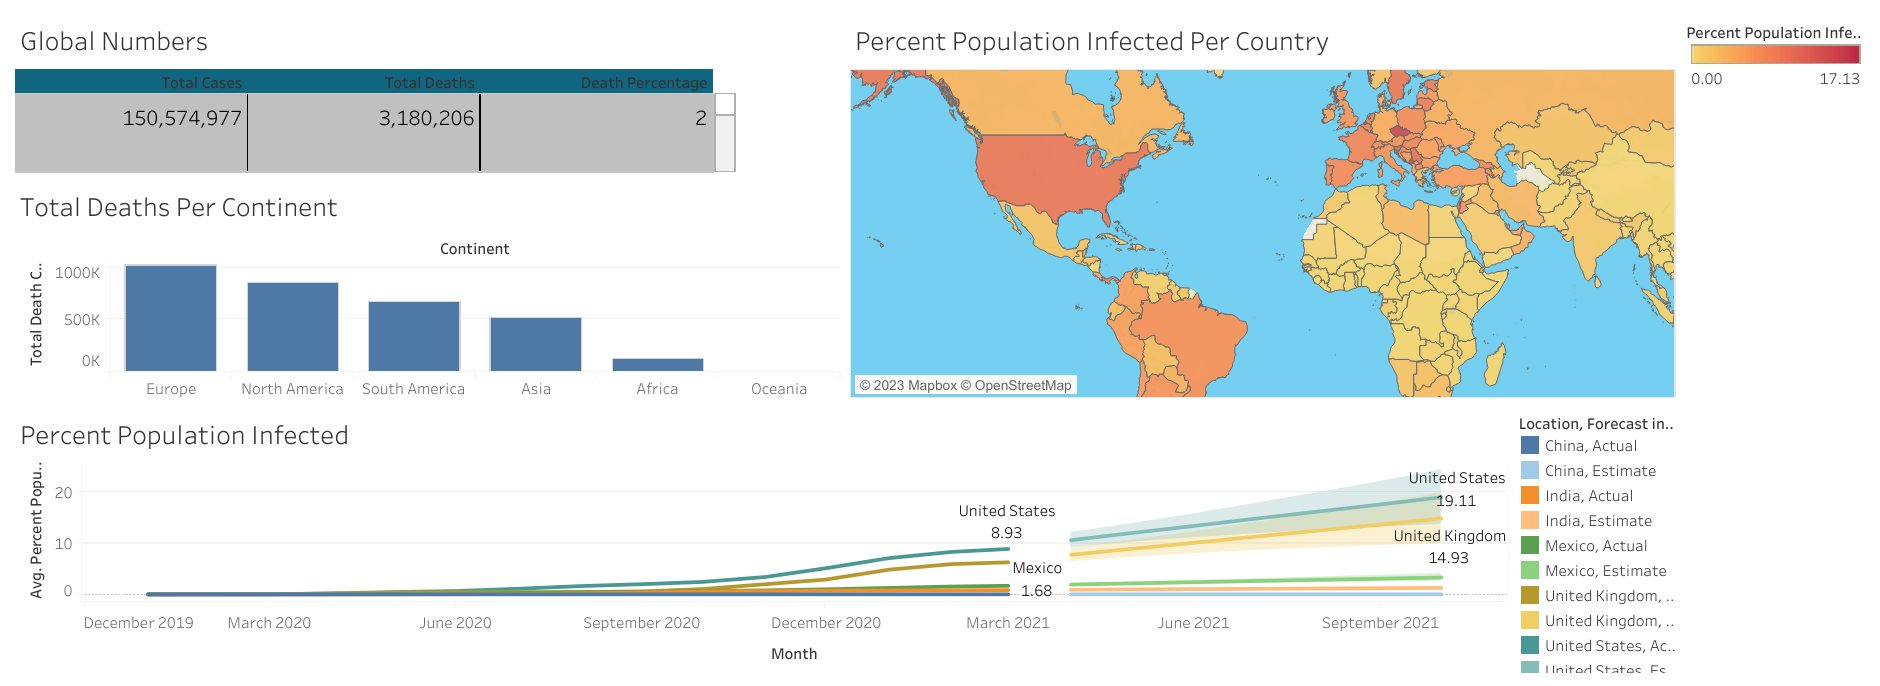

The dashboard page shown, as its layout file describes it:
{"tool":"tableau","page":{"name":"Dashboard 1","canvas":[1000,1000],"units":"permille","ordinal":0},"visuals":[{"type":"worksheet","title":"Sheet 1","mark":"Automatic","box":[4.8,9.3,449.3,245.3]},{"type":"worksheet","title":"Sheet 3","mark":"Automatic","box":[454.1,9.3,449.3,578.4]},{"type":"legend","title":"Sheet 3","param":"[federated.1u6pgzk0rhh873144wigi0cf6ax3].[sum:PercentPopulationInfected:qk]","box":[903.4,9.3,91.7,84.8]},{"type":"worksheet","title":"Sheet 2","mark":"Automatic","rows":["TotalDeathCount"],"cols":["location"],"box":[4.8,254.6,449.3,333.1]},{"type":"worksheet","title":"Sheet 4","mark":"Automatic","rows":["PercentPopulationInfected"],"cols":["date"],"box":[4.8,587.7,808,403]},{"type":"legend","title":"Sheet 4","param":"[federated.0fv2uox0hbhi61182v4641vh426j].[none:Location:nk]\n[federated.0fv2uox0h","box":[812.8,587.7,90.6,403]}]}

Visuals, with their boxes on the dashboard's canvas, which has no fixed pixel size, in thousandths of its width and height (x1, y1, x2, y2). These are canvas units, not pixel positions in the 1880x686 screenshot, which may show the page scaled, cropped or inside an application window:
"Sheet 1" worksheet: [5, 9, 454, 255]
"Sheet 3" worksheet: [454, 9, 903, 588]
"Sheet 3" legend: [903, 9, 995, 94]
"Sheet 2" worksheet: [5, 255, 454, 588]
"Sheet 4" worksheet: [5, 588, 813, 991]
"Sheet 4" legend: [813, 588, 903, 991]
